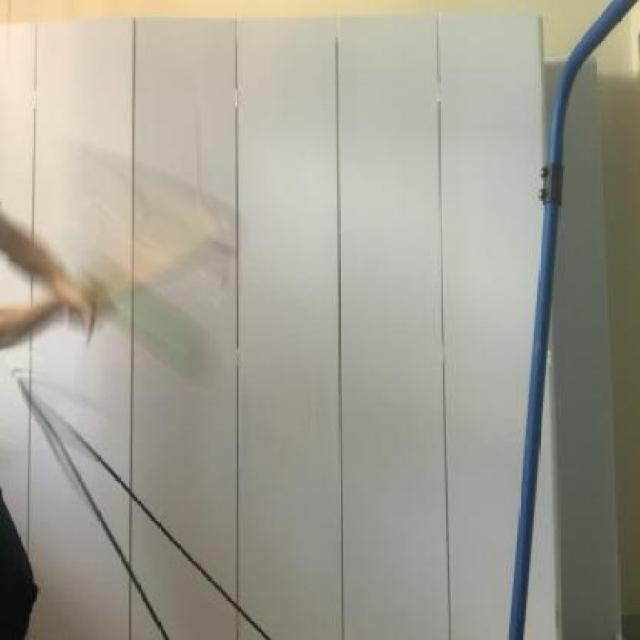baseball: (72, 235, 235, 402)
